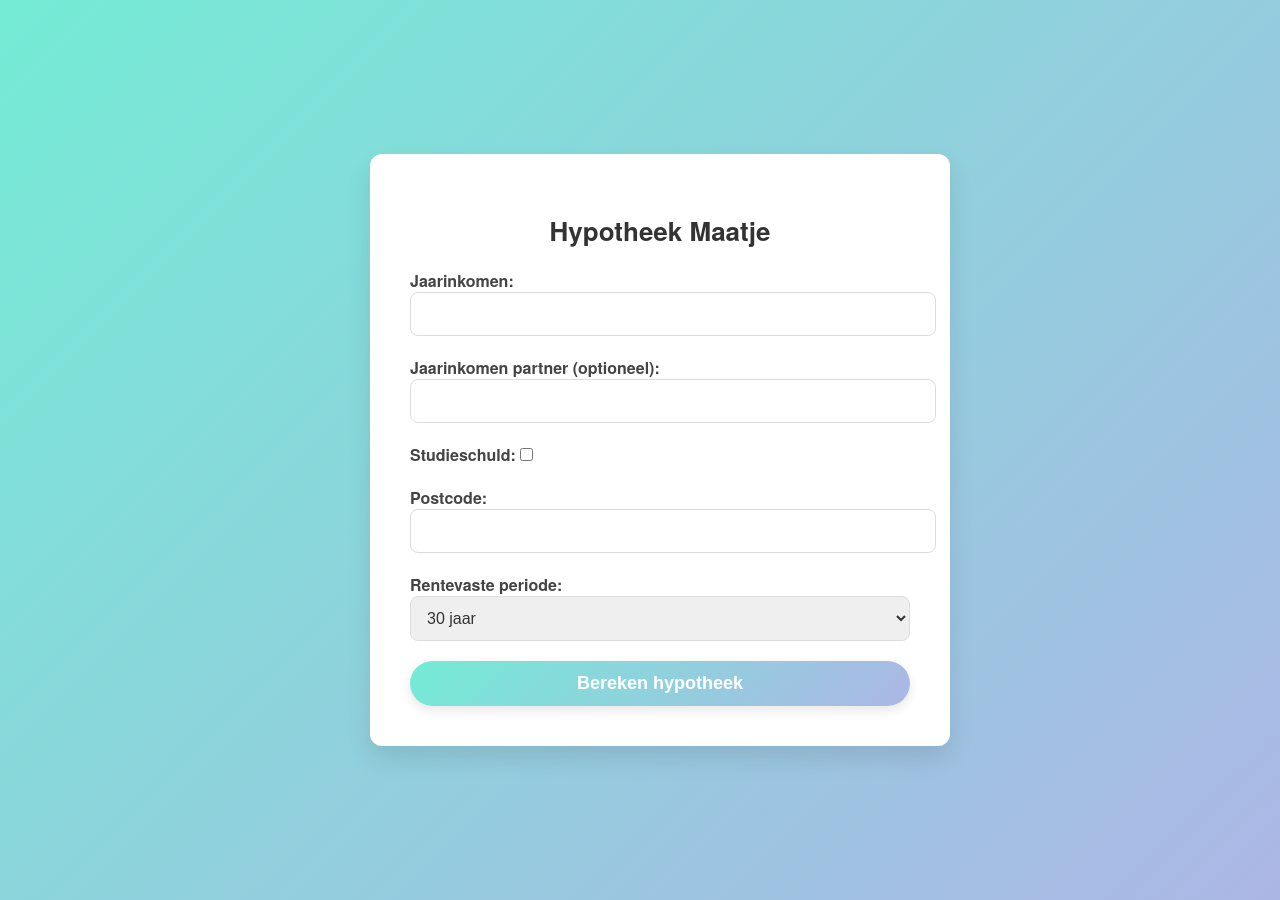
it: Hypotheek Maatje › vermindert het maximale leenbedrag bij studieschuld
Voer jaarinkomen in
Type "50000" into the number field labelled "Jaarinkomen:" at (673, 314), box [410, 292, 936, 336]
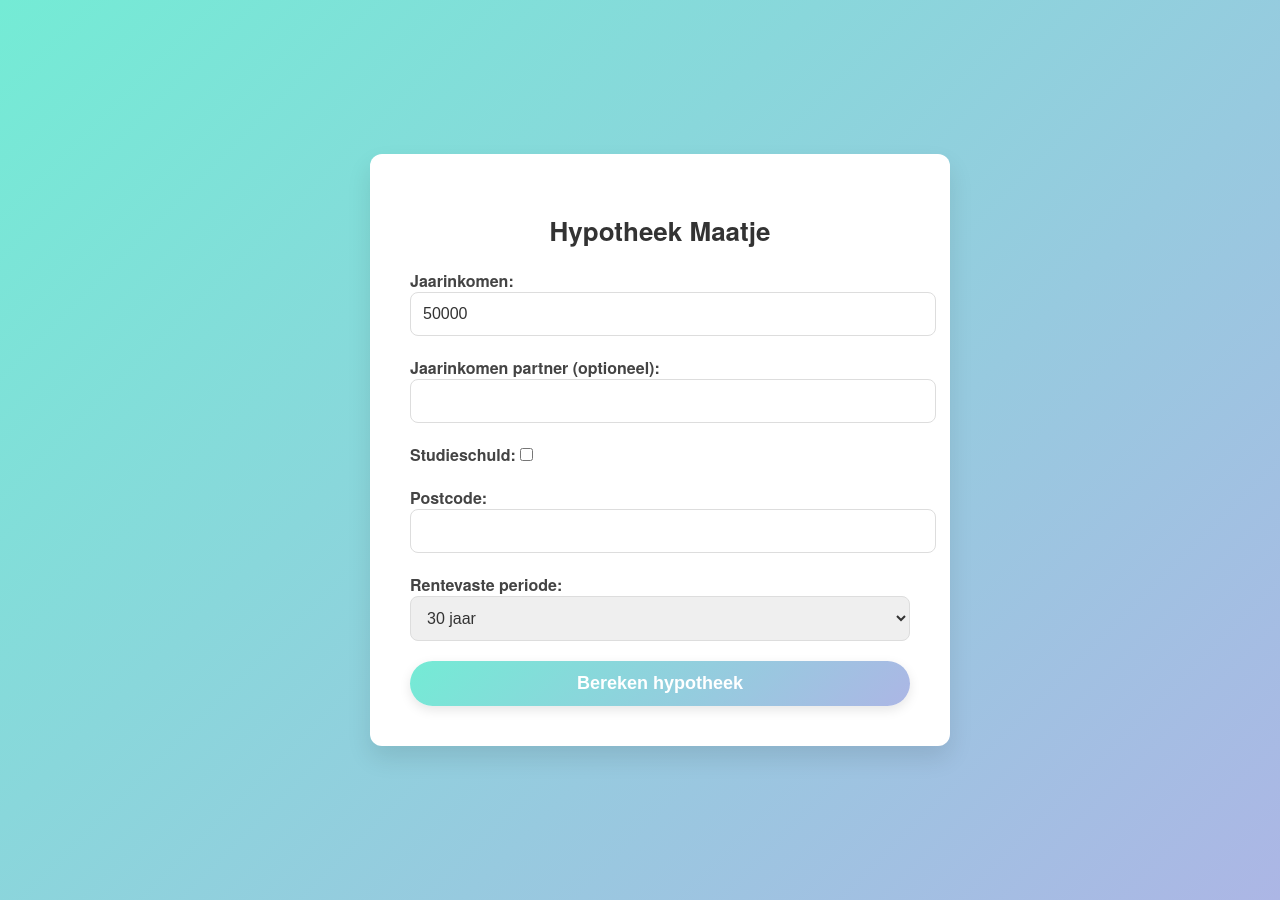
Vink studieschuld aan
Click the checkbox labelled "Studieschuld:" at (526, 454), box [520, 448, 533, 461]
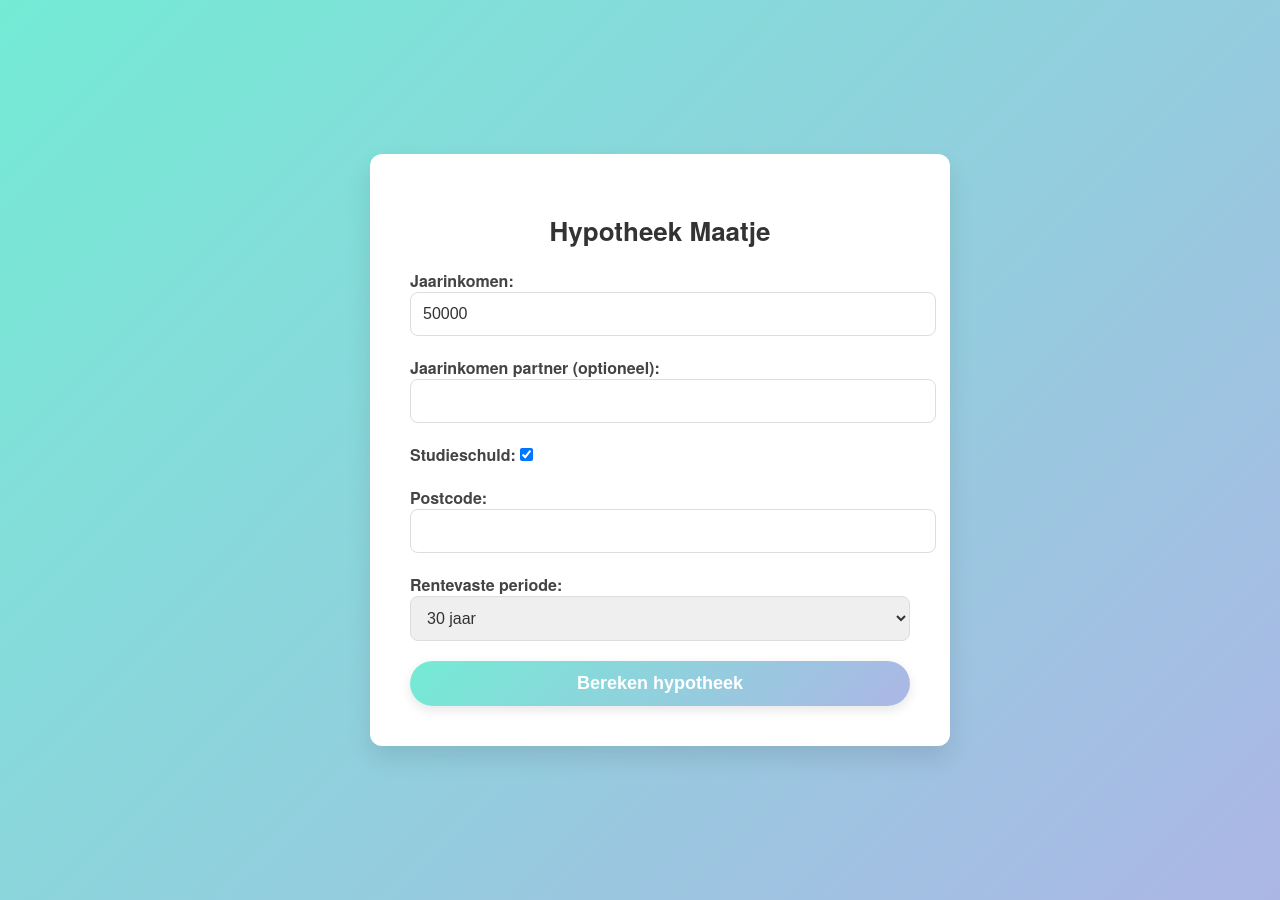
Voer postcode in
Type "1234AB" into the field labelled "Postcode:" at (673, 531), box [410, 509, 936, 553]
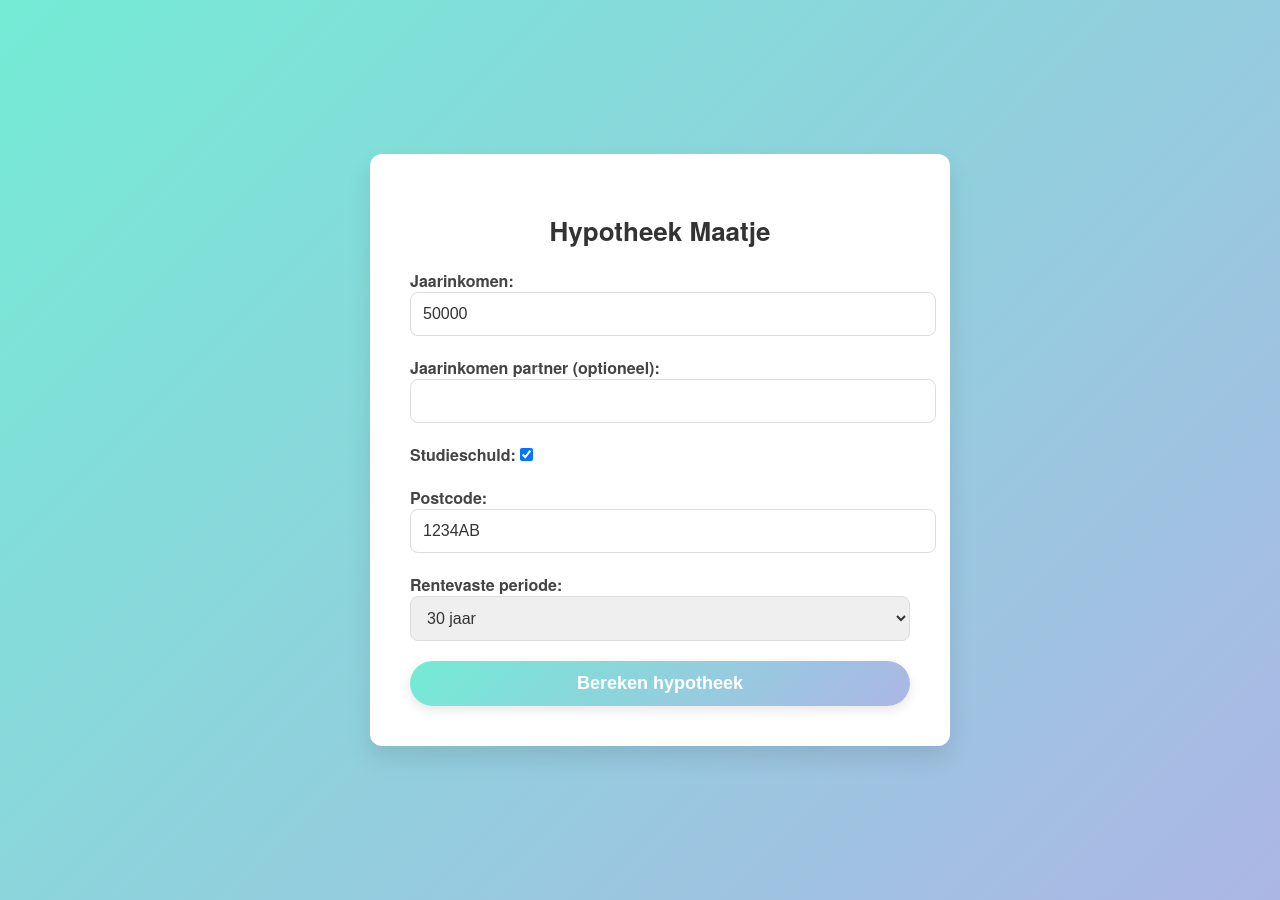
Selecteer rentevaste periode
Select "30 jaar" in the dropdown labelled "Rentevaste periode:" at (660, 618), box [410, 596, 910, 641]
Klik op bereken knop
Click the button "Bereken hypotheek" at (660, 683), box [410, 661, 910, 706]
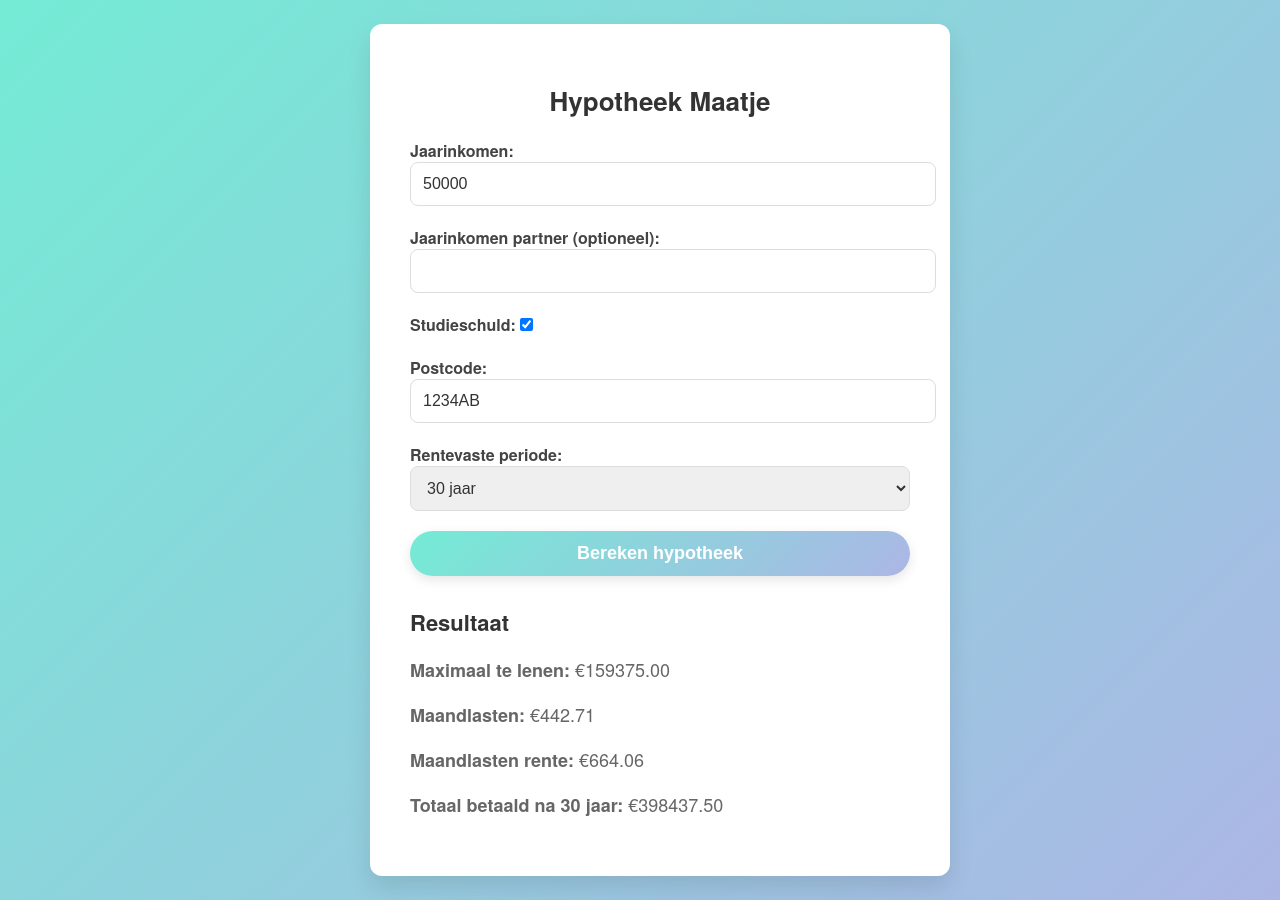
Expected: the text "Maximaal te lenen:" is shown, [410, 657, 570, 683]
Expected: the text "€159375.00" is shown, [410, 656, 670, 683]
